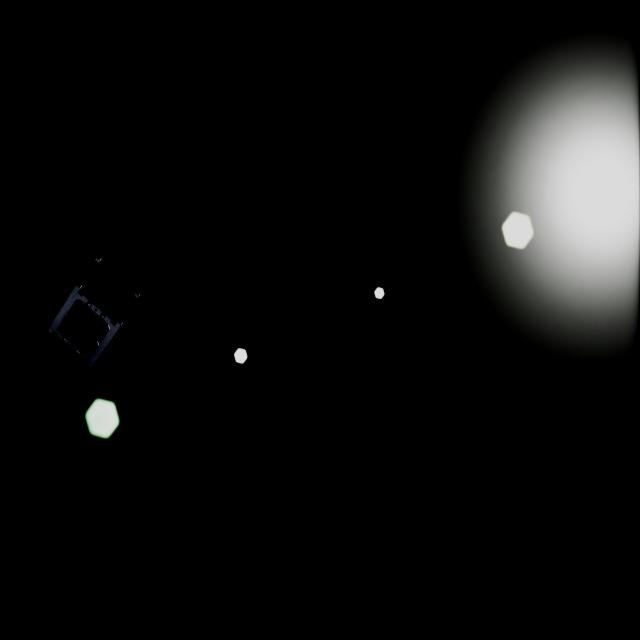medium_debris: (43, 251, 150, 368)
